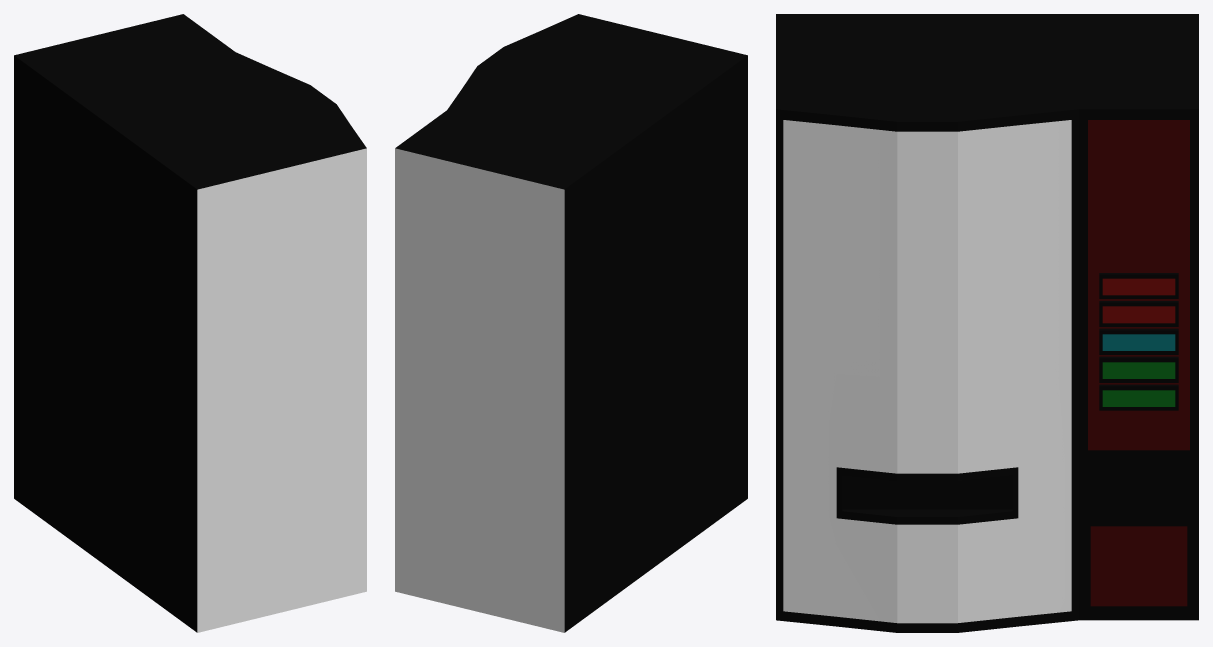
The model's file is VendingMachine-Soda_01.fbx.
3 views of the same model, side by side, from view 1: azimuth 30°, elevation 25°; view 2: azimuth 150°, elevation 25°; view 3: azimuth 270°, elevation 25° (orthographic). The views are drawn at different scales.
Visible parts, largest first — view 1: SodaMachine_01; view 2: SodaMachine_01; view 3: SodaMachine_01.
Part boxes in pixels (<box>): SodaMachine_01: <box>14,14,366,632</box>; SodaMachine_01: <box>395,14,747,632</box>; SodaMachine_01: <box>776,14,1198,632</box>.
Bounding box in the file's own units: 0.9057 × 2 × 1.5.
